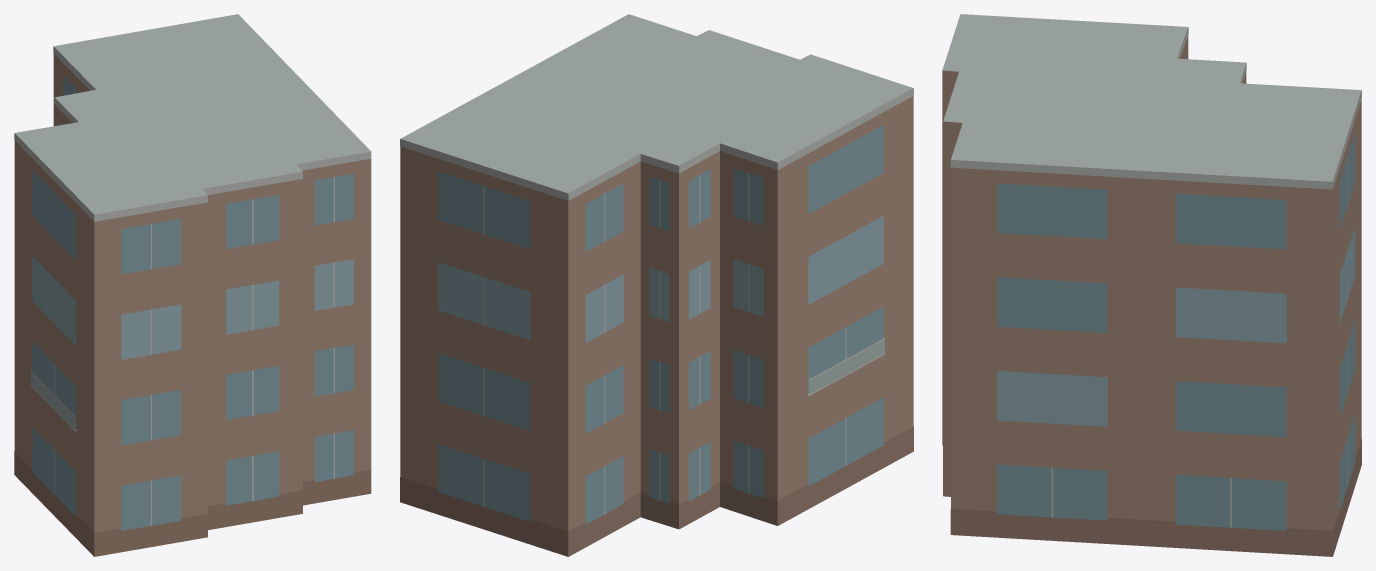
The model's file is survey-upis-32721680.glb.
3 renders of one model, left to right at view 1: azimuth 30°, elevation 25°; view 2: azimuth 150°, elevation 25°; view 3: azimuth 270°, elevation 25°, orthographic. The views are drawn at different scales.
Visible parts, largest first — view 1: survey-upis-32721680.tmp; view 2: survey-upis-32721680.tmp; view 3: survey-upis-32721680.tmp.
Part boxes in pixels (x1,y1,x2,y2): survey-upis-32721680.tmp: [14, 14, 371, 556]; survey-upis-32721680.tmp: [400, 14, 913, 556]; survey-upis-32721680.tmp: [942, 14, 1361, 556].
Size of the model in its own units: 11.34 by 11.8 by 11.97.
